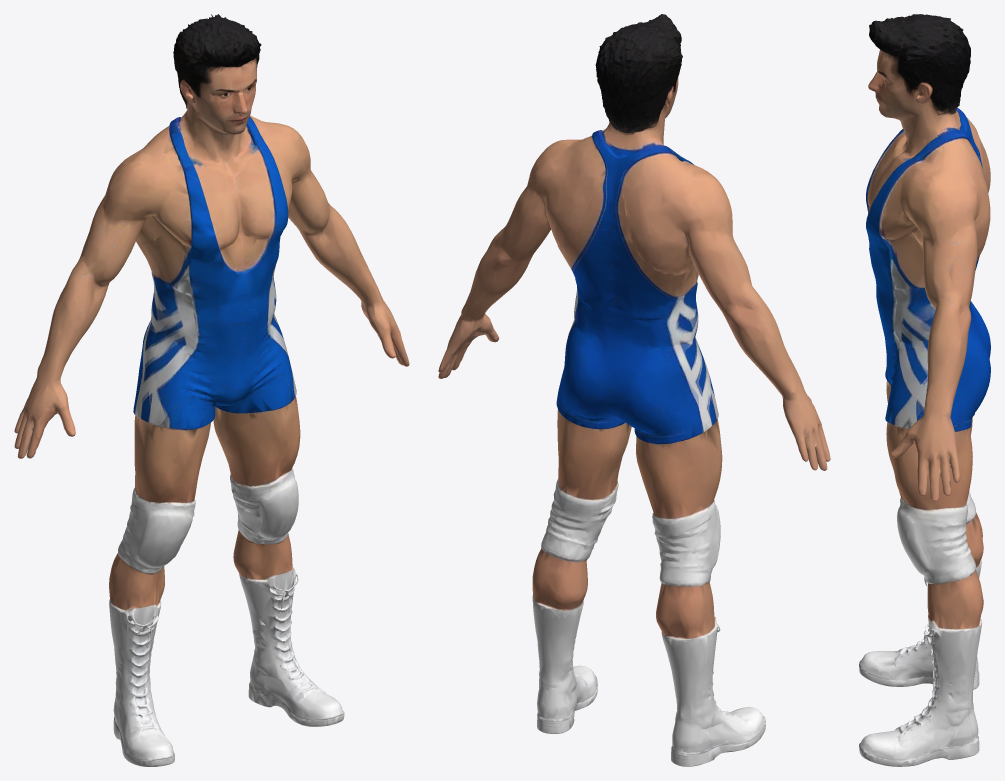
The model's file is 28d508e6-da69-45f3-bdb6-030cb6974ea8.glb.
The picture shows the model from 3 angles, left to right: view 1: azimuth 30°, elevation 25°; view 2: azimuth 150°, elevation 25°; view 3: azimuth 270°, elevation 25°; orthographic projection.
Visible parts, largest first — view 1: Mesh_0; view 2: Mesh_0; view 3: Mesh_0.
Part boxes in pixels (x1,y1,x2,y2): Mesh_0: (14,14,409,766); Mesh_0: (438,14,830,766); Mesh_0: (859,14,990,766).
Size of the model in its own units: 1.03 by 1.8 by 0.3073.
Materials: 1 (1 with a texture image).
